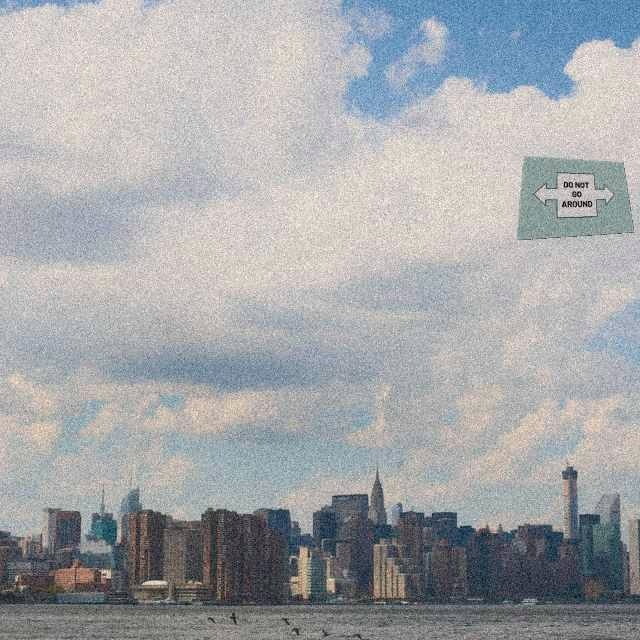DO_NOT_GO_AROUND: (526, 171, 618, 220)
